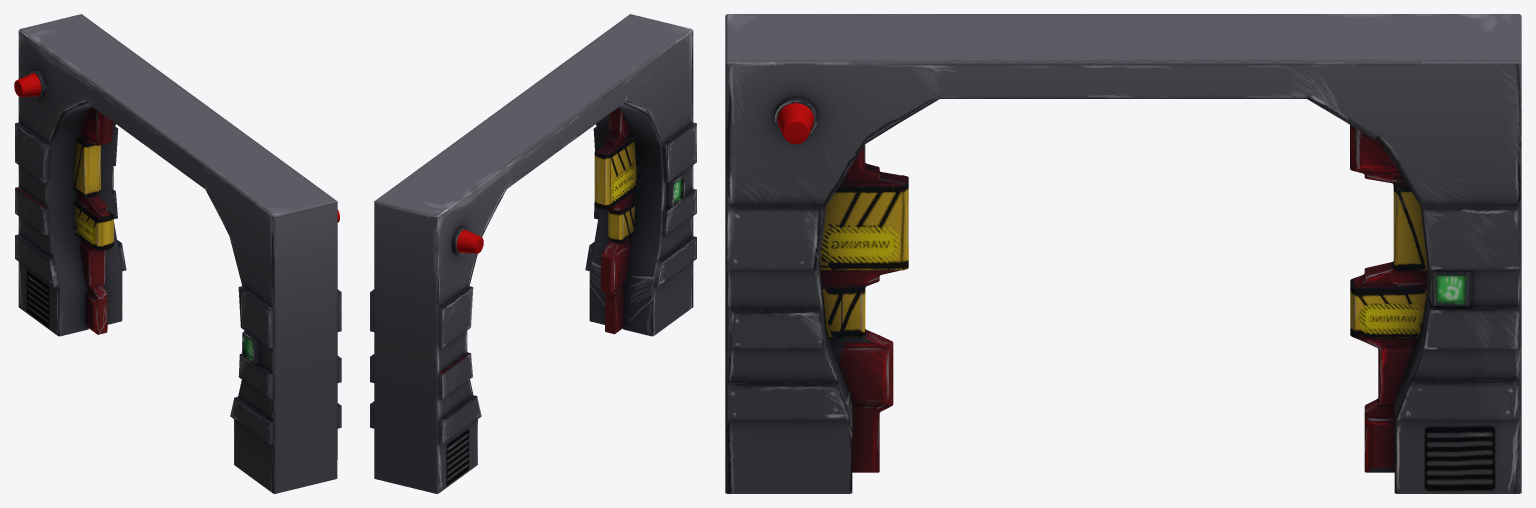
Rendered from blast-door-open.glb.
3 views of the same model, side by side, from view 1: azimuth 30°, elevation 25°; view 2: azimuth 150°, elevation 25°; view 3: azimuth 270°, elevation 25° (orthographic). The views are drawn at different scales.
Parts seen in each view (by area): view 1: SM_BlastDoorOpen; view 2: SM_BlastDoorOpen; view 3: SM_BlastDoorOpen.
Part boxes in pixels (bbox=[...]): SM_BlastDoorOpen: bbox=[14, 14, 341, 493]; SM_BlastDoorOpen: bbox=[370, 14, 696, 493]; SM_BlastDoorOpen: bbox=[725, 14, 1521, 493].
Size of the model in its own units: 1.33 by 3.35 by 5.59.
Materials: 1 (1 with a texture image).
